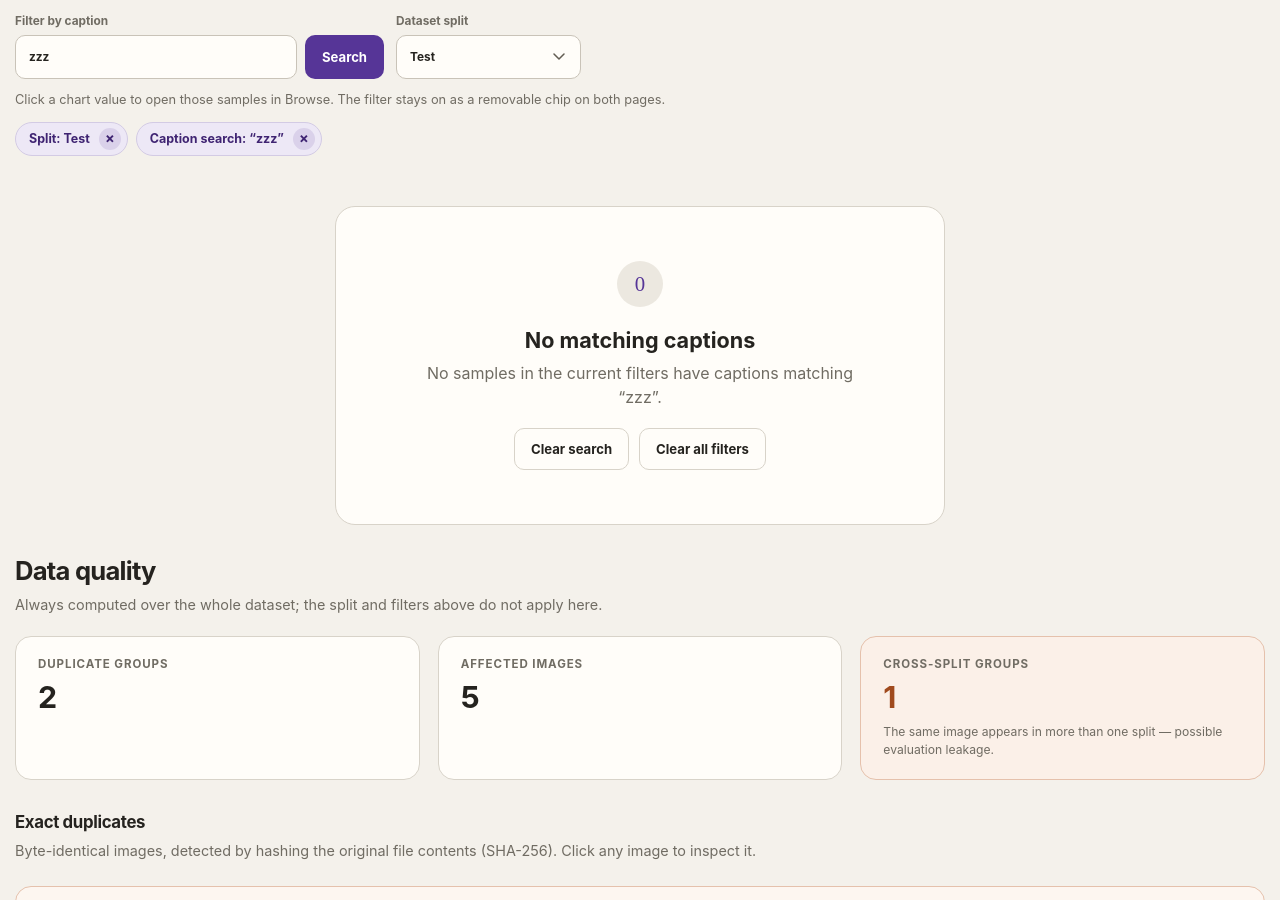
offers a way back when no samples match the scope
Check: the heading "No matching captions" is shown, box [525,326,755,352]
Check: the text "Samples by split" is not shown
What coordinates should you click on to do the following:
click the button "Clear all filters"
I would click on:
 (703, 449)
Its box is [639,428,766,470].
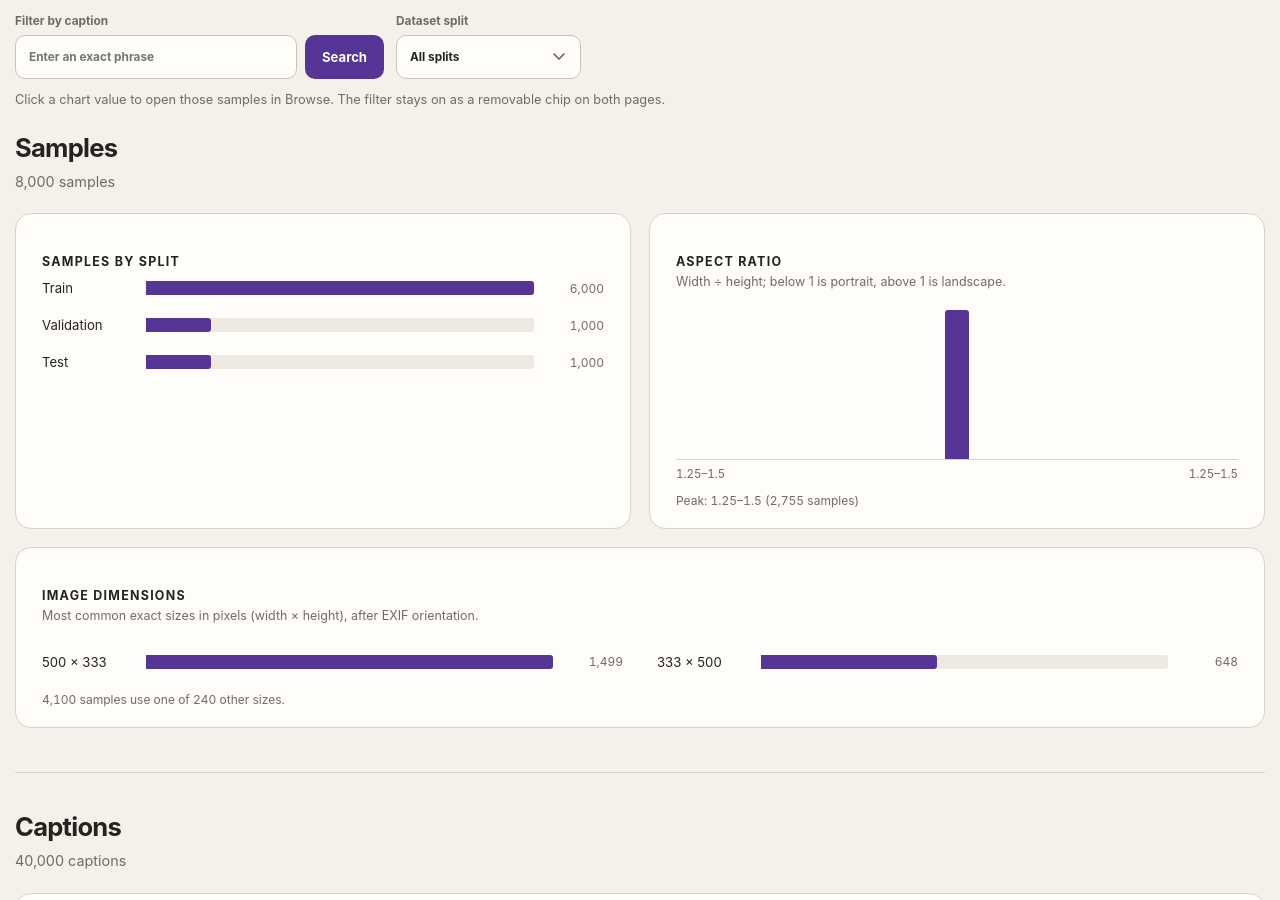
Check: the text "8,000 samples" is shown, box [15,172,115,190]
